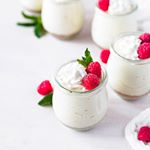cups: (51, 57, 113, 134), (104, 29, 150, 105)
